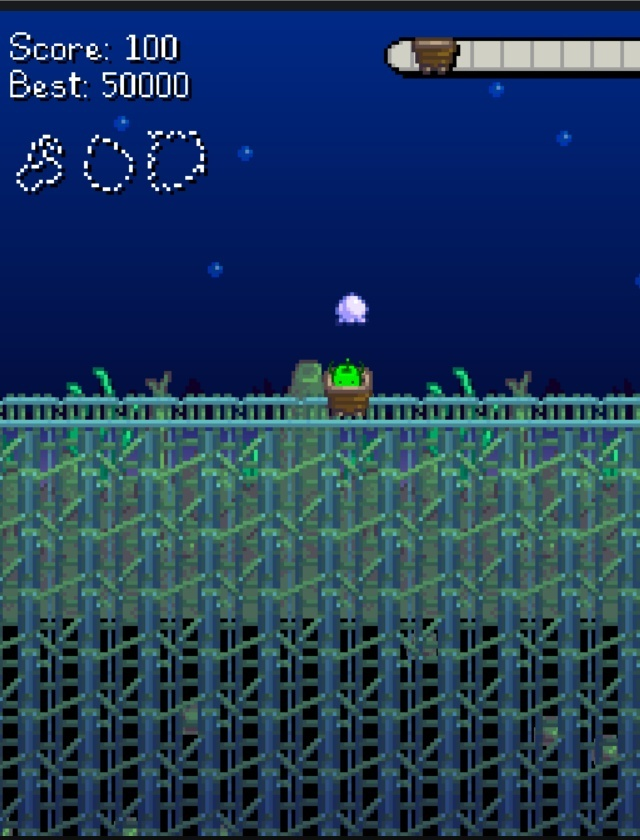minecart: (324, 359, 371, 417)
tracks: (0, 386, 310, 433), (379, 389, 640, 435)
